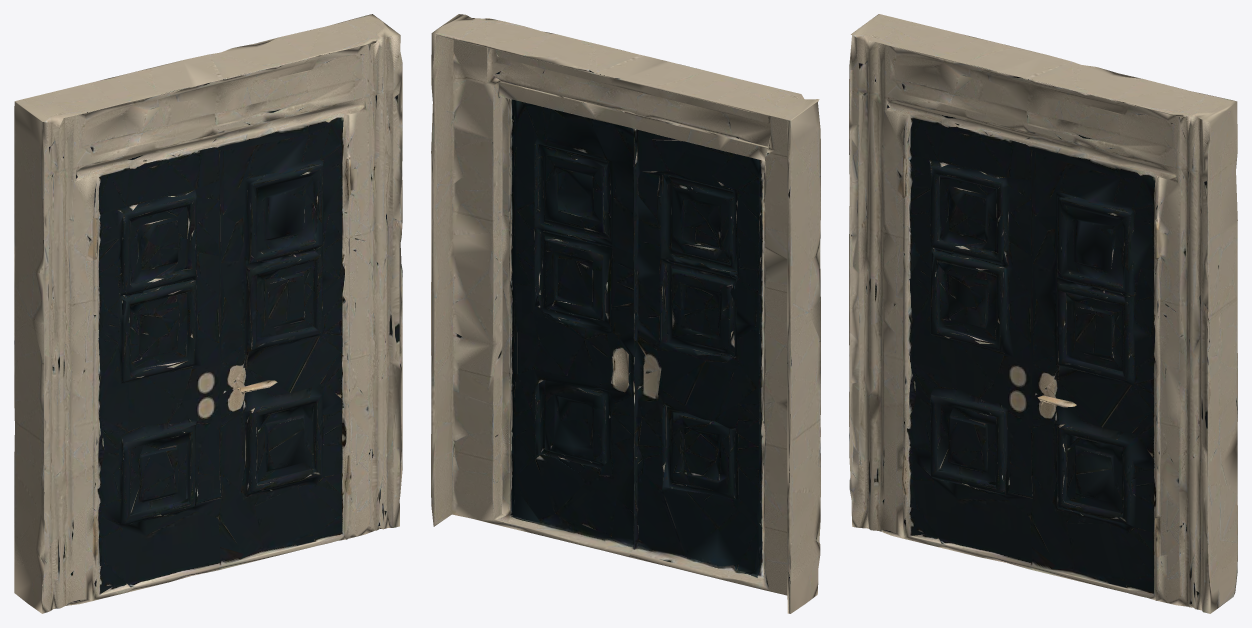
File: bermuda-limestone-door.glb
3 renders of one model, left to right at view 1: azimuth 30°, elevation 25°; view 2: azimuth 150°, elevation 25°; view 3: azimuth 330°, elevation 25°, orthographic.
Bounding box in the file's own units: 1.45 × 1.9 × 0.2481.
1 material, 1 textured.
